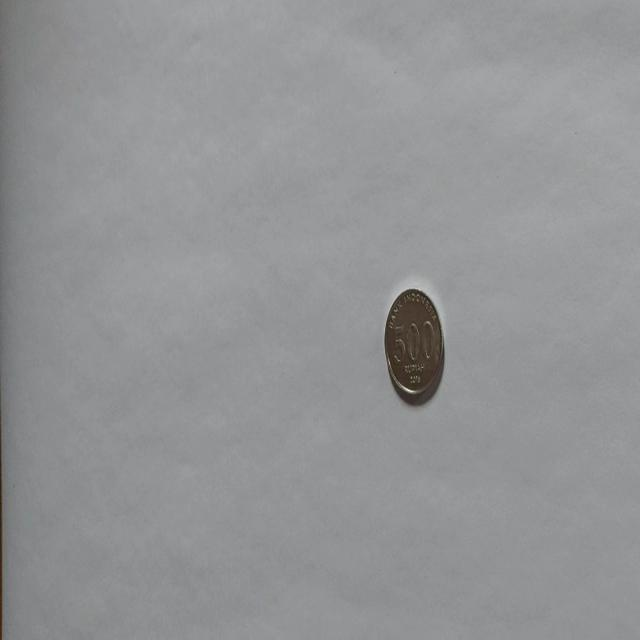lima ratus rupiah: (383, 286, 445, 404)
